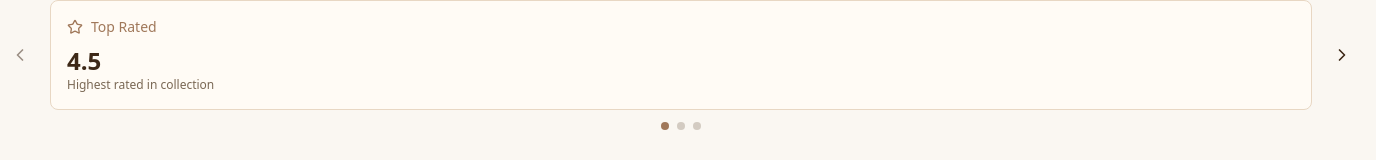
Test case: StatsCarousel › goes to the next slide when the right arrow is clicked
Click the button named "next" at (1342, 55), box left=1320, top=37, right=1364, bottom=73
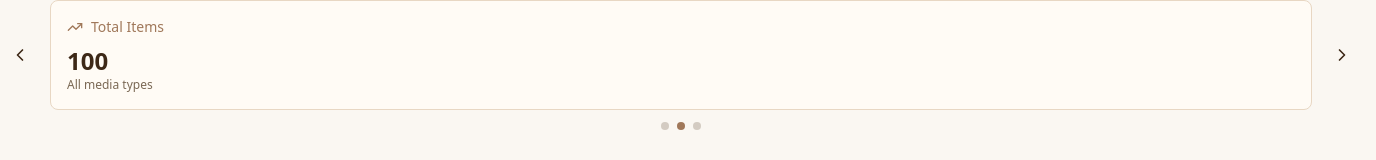
Expected: the element showing "Total Items 100 All media types" is shown, left=67, top=17, right=164, bottom=93
